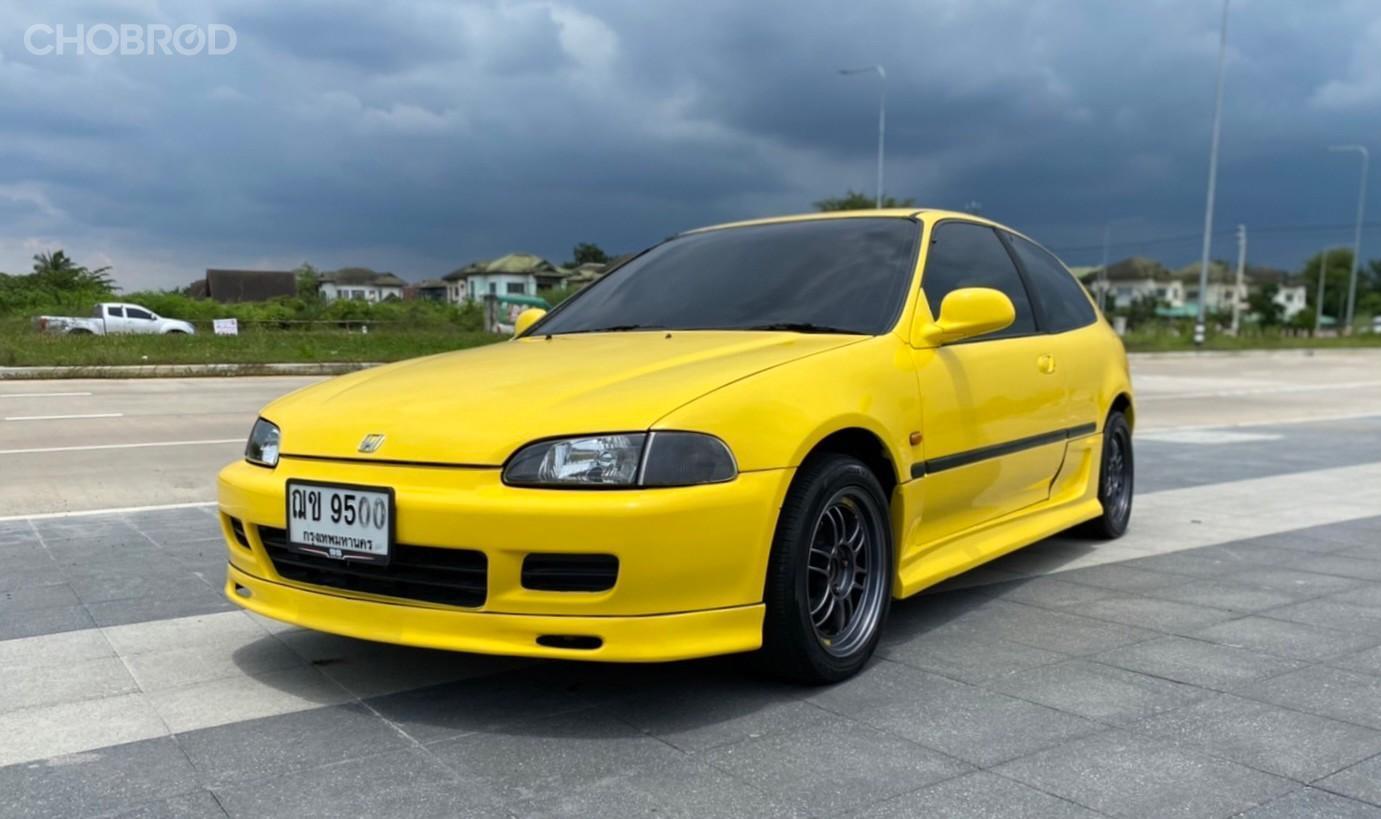license-plate: (282, 475, 395, 560)
